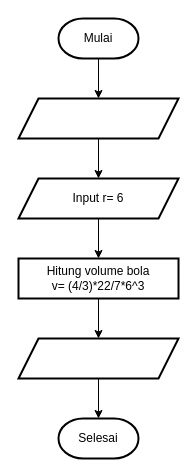
This 196x476 diagram has some shape labels left out. The box of each missing label's shape, as (x1, y1, x2, y2) in pixels:
output v= 904 cm3: (17, 337, 179, 379)
v= (4/3)*phi*r^3: (17, 97, 179, 139)
